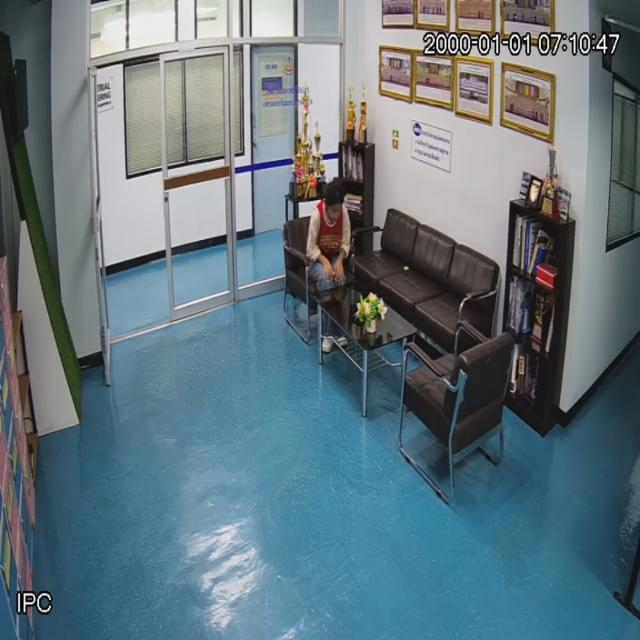normal: (306, 177, 355, 291)
